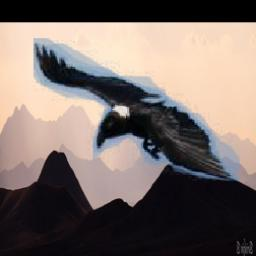Crow: (33, 39, 239, 182)
